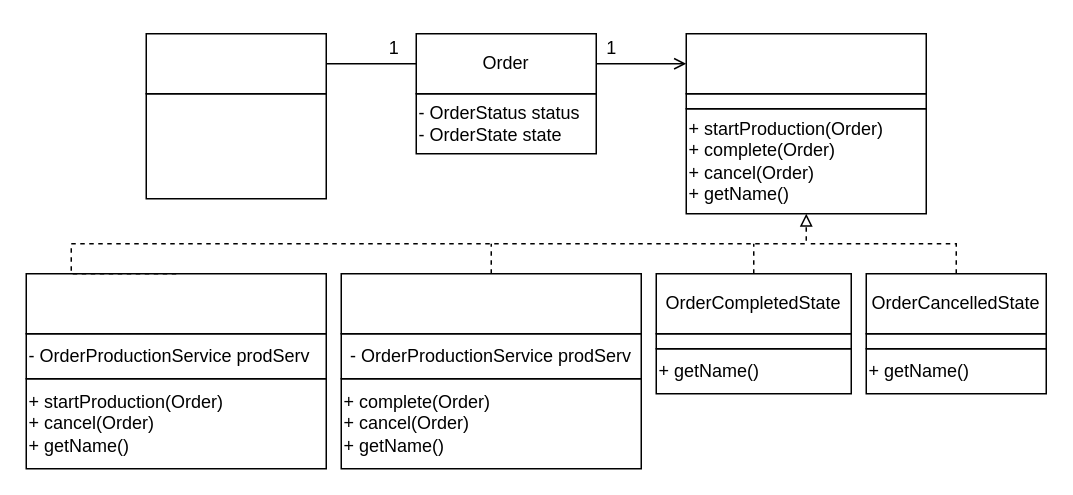
This 1073x495 diagram has some shape labels left out. Each missing label, with the centre of its shape:
"<<enumeration>> OrderStatus" goes at pixel 235 63.
"<<interface>> OrderState" goes at pixel 805 63.
"CREATED, IN_PRODUCTION, COMPLETED, CANCELLED" goes at pixel 235 145.
"OrderCreatedState" goes at pixel 175 303.
"OrderInProductionState" goes at pixel 490 303.
